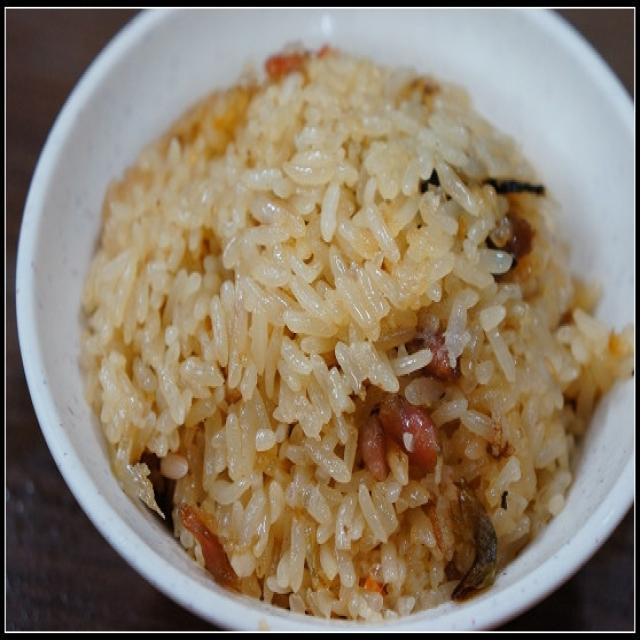米饭主食: (55, 30, 619, 608)
